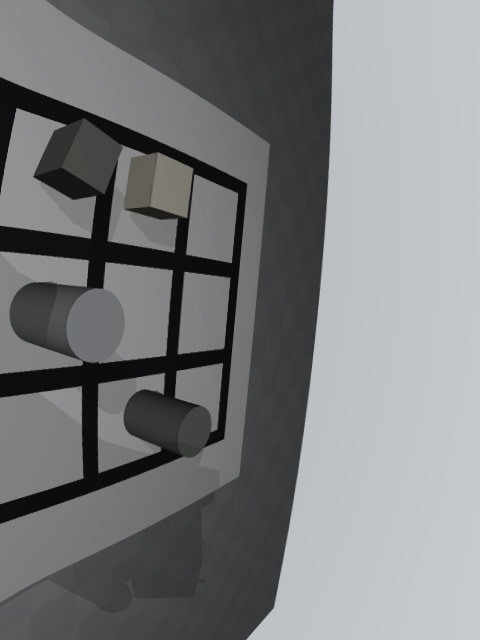can: (10, 282, 125, 363)
cube: (33, 118, 123, 200)
cylinder: (123, 390, 212, 458)
foam: (123, 152, 193, 220)
